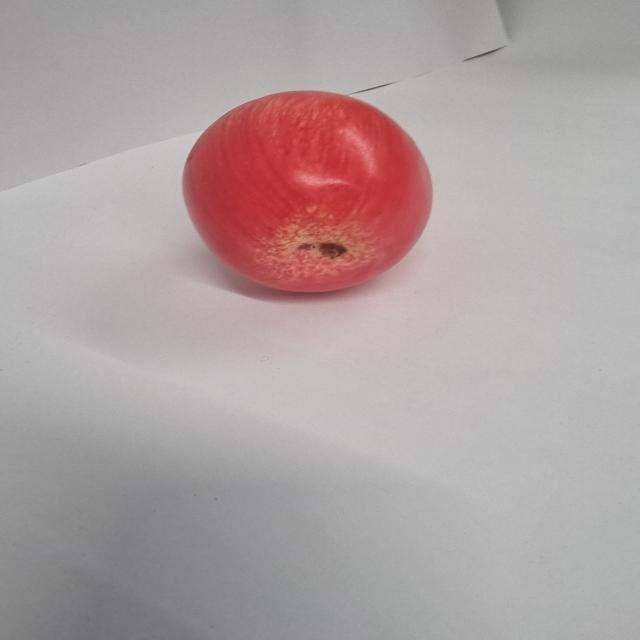apple: (181, 90, 432, 292)
